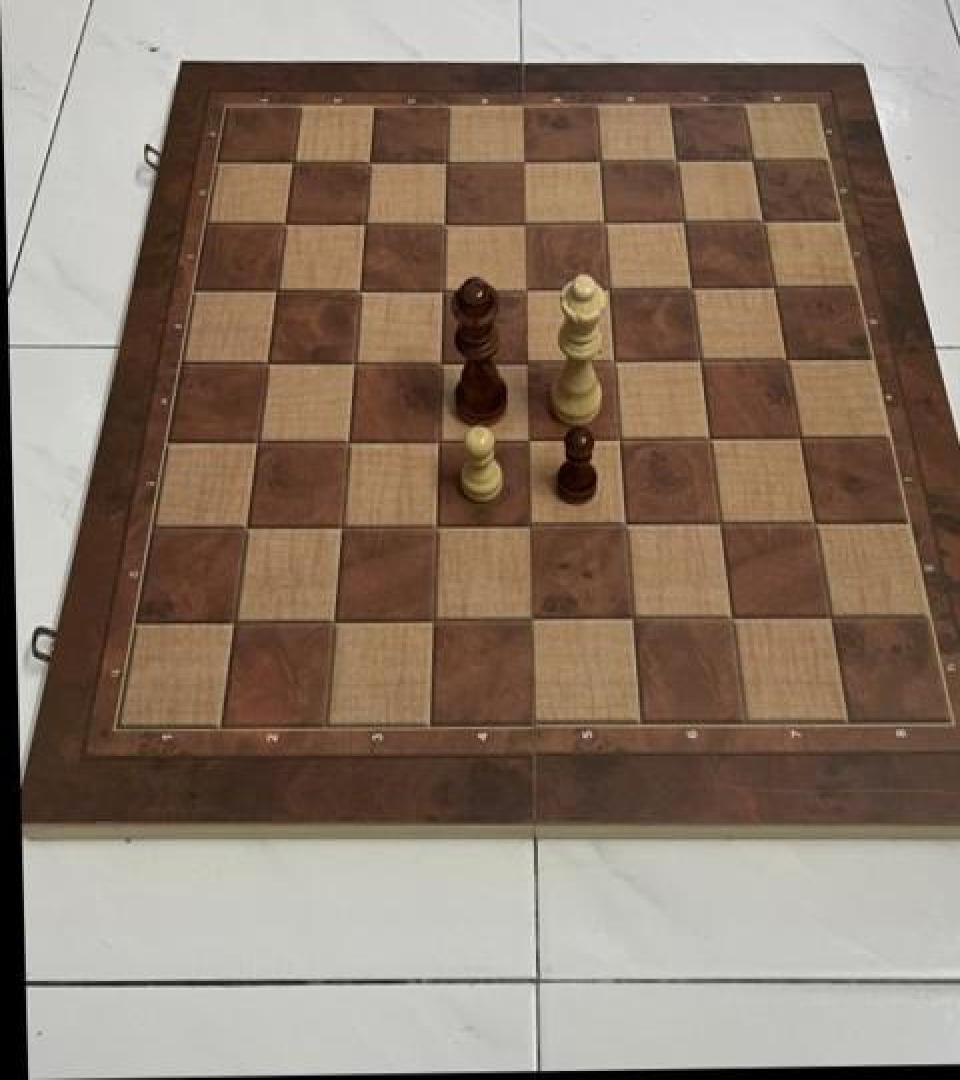xcorner: (746, 201, 782, 242), (666, 201, 702, 242), (783, 416, 819, 457), (692, 416, 728, 457), (601, 417, 637, 458), (321, 505, 357, 546), (226, 505, 262, 546), (813, 595, 849, 636), (714, 596, 750, 637), (614, 597, 650, 638), (514, 597, 550, 638), (735, 141, 771, 181), (659, 141, 695, 181), (582, 142, 618, 182), (505, 142, 541, 182), (428, 143, 464, 183), (351, 143, 387, 183), (274, 144, 310, 184), (586, 203, 622, 243), (506, 203, 542, 243), (426, 204, 462, 244), (346, 204, 382, 244), (266, 205, 302, 245), (757, 267, 793, 307), (674, 268, 710, 308), (590, 268, 626, 308), (507, 269, 543, 309), (424, 269, 460, 309), (341, 270, 377, 310), (257, 270, 293, 310), (769, 339, 805, 379), (682, 339, 718, 379), (596, 340, 632, 380), (509, 340, 545, 380), (422, 341, 458, 381), (335, 341, 371, 381), (248, 342, 284, 382), (510, 419, 546, 459), (419, 419, 455, 459), (328, 420, 364, 460), (237, 420, 273, 460), (797, 502, 833, 542), (702, 502, 738, 542), (607, 503, 643, 543), (512, 504, 548, 544), (417, 504, 453, 544), (414, 599, 450, 639), (314, 599, 350, 639), (214, 600, 250, 640)
